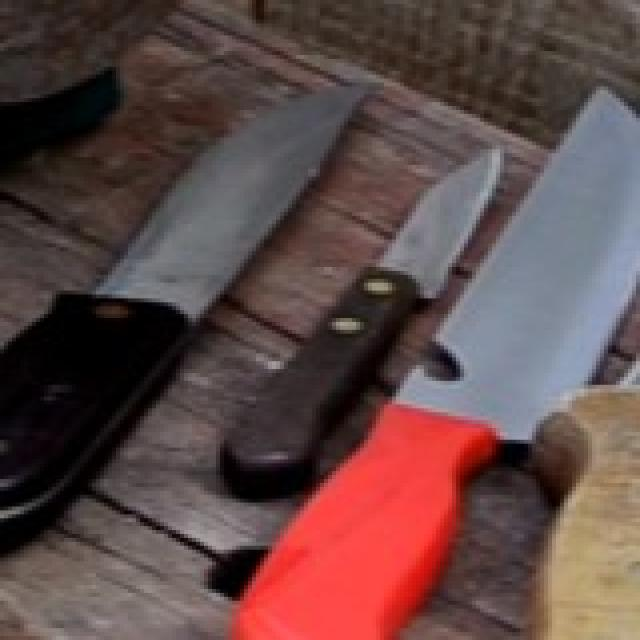knives: (93, 22, 368, 371), (372, 108, 518, 324)
